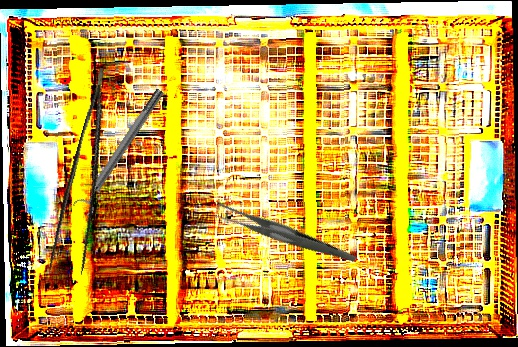Dressing Forceps: (210, 169, 358, 302)
Fixation Ring: (70, 84, 172, 218)
Tissue Forceps: (41, 67, 138, 285)
